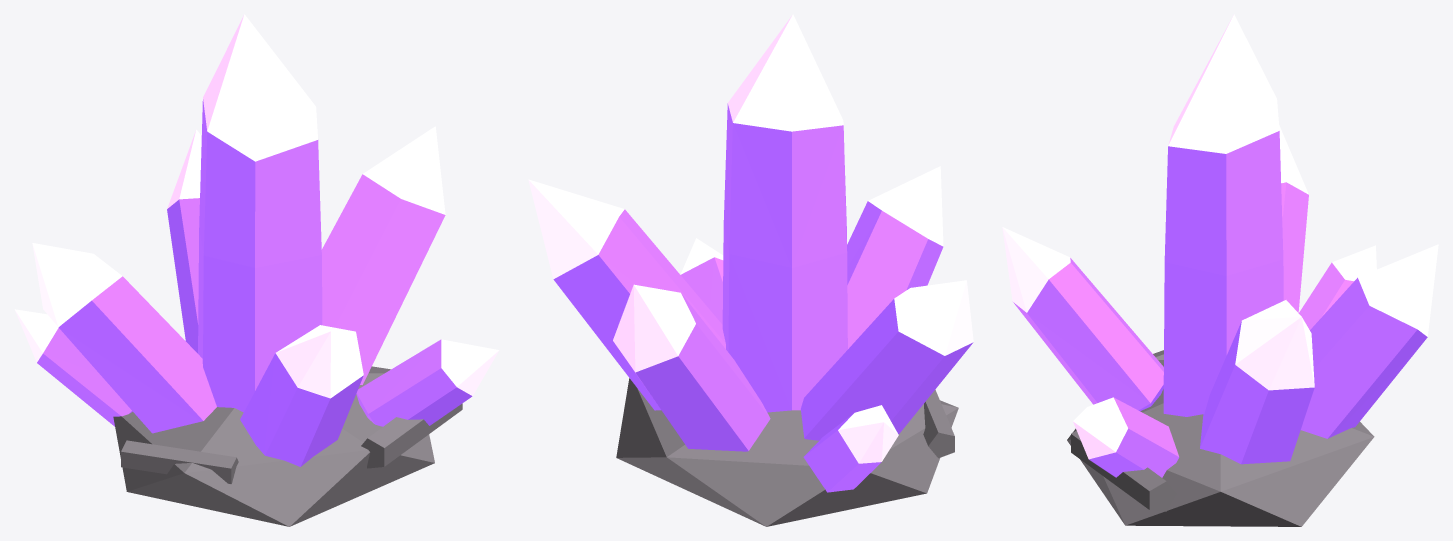
Rendered from Shard_Large.fbx.
The picture shows the model from 3 angles, left to right: view 1: azimuth 30°, elevation 25°; view 2: azimuth 150°, elevation 25°; view 3: azimuth 270°, elevation 25°; orthographic projection. The views are drawn at different scales.
Parts seen in each view (by area): view 1: Shard_Large; view 2: Shard_Large; view 3: Shard_Large.
Part boxes in pixels (x1,y1,x2,y2): Shard_Large: [14, 14, 499, 526]; Shard_Large: [528, 14, 973, 526]; Shard_Large: [1002, 14, 1438, 526].
Size of the model in its own units: 0.5898 by 0.6 by 0.5336.
